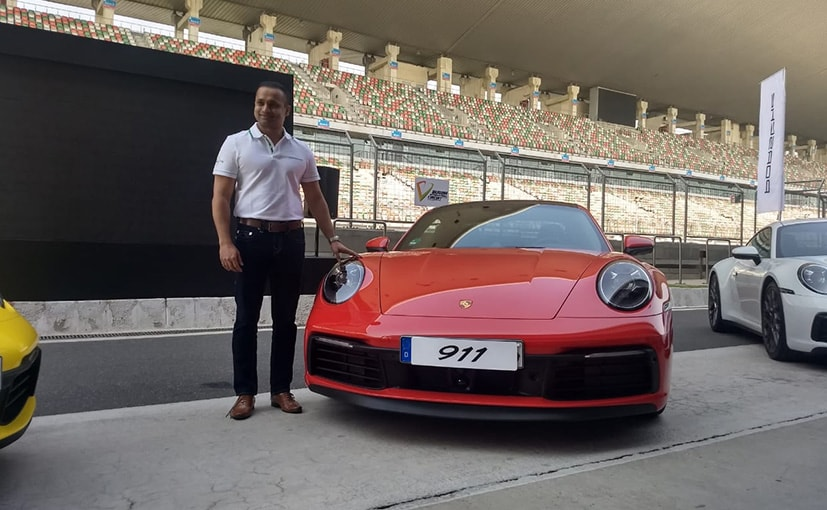number_plate: (396, 332, 526, 373)
